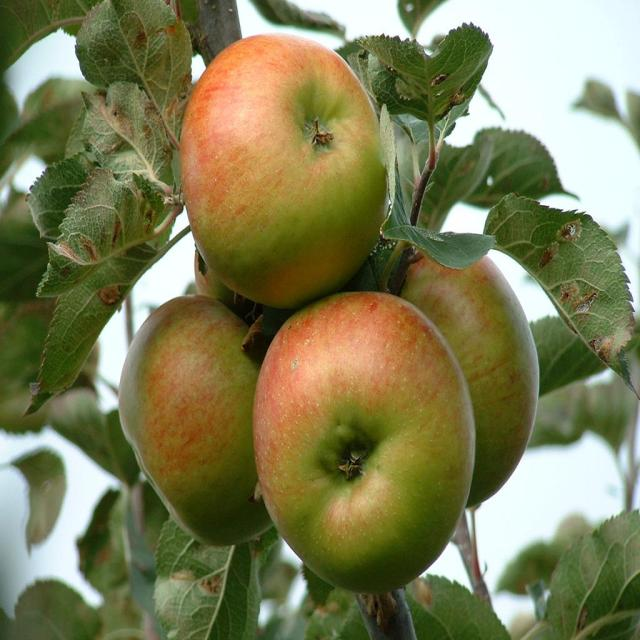Healty Apple: (251, 290, 476, 592), (177, 32, 389, 307), (115, 293, 276, 549), (398, 236, 540, 504), (189, 239, 248, 319)
